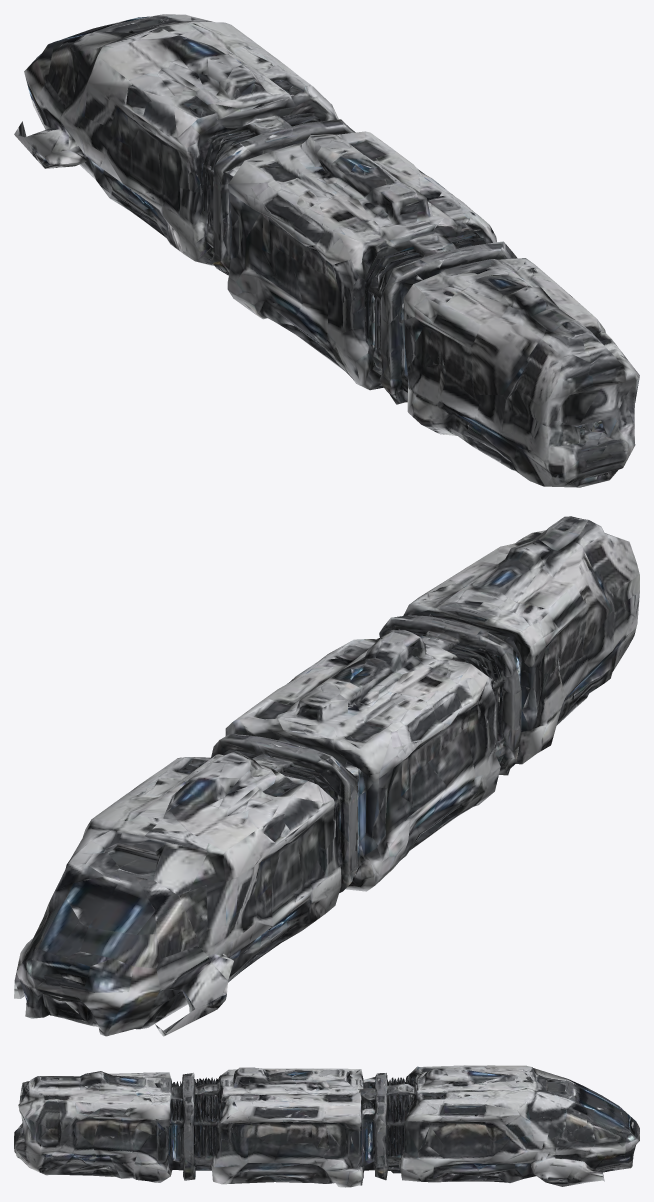
File: tide-train.glb
The picture shows the model from 3 angles, top to bottom: view 1: azimuth 30°, elevation 25°; view 2: azimuth 150°, elevation 25°; view 3: azimuth 270°, elevation 25°; orthographic projection. The views are drawn at different scales.
Visible parts, largest first — view 1: body_mesh; view 2: body_mesh; view 3: body_mesh.
Boxes of the visible parts, box(x1,y1,x2,y2) form: body_mesh: box(14, 14, 639, 487); body_mesh: box(14, 516, 639, 1036); body_mesh: box(14, 1065, 639, 1187).
Bounding box in the file's own units: 4.25 × 3.84 × 21.49.
Materials: 1 (1 with a texture image).
